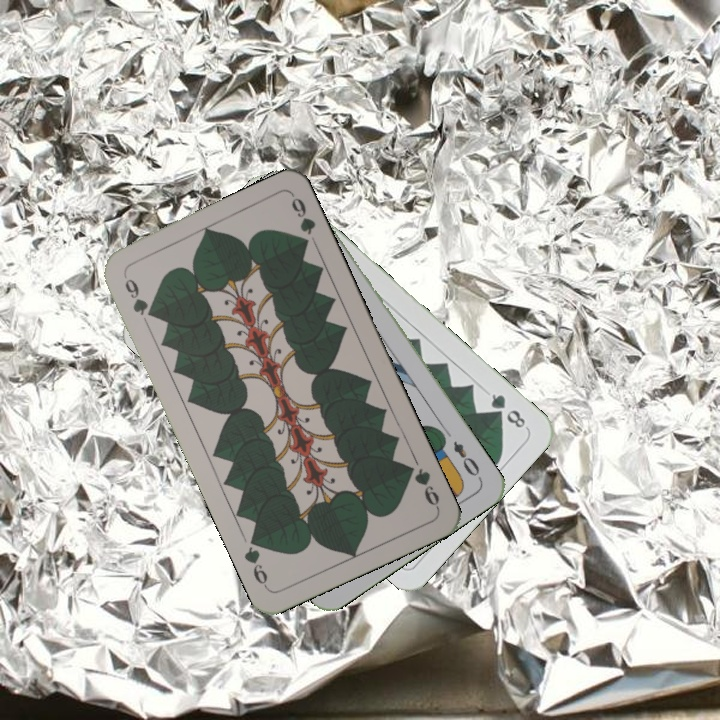EO: (449, 437, 485, 482)
G8: (486, 389, 530, 432)
G9: (401, 460, 442, 512), (119, 271, 158, 321)
